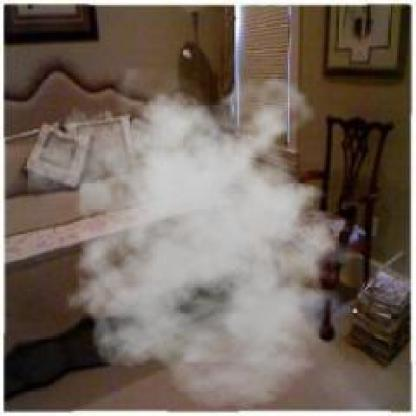Smoke: (27, 68, 373, 410)
